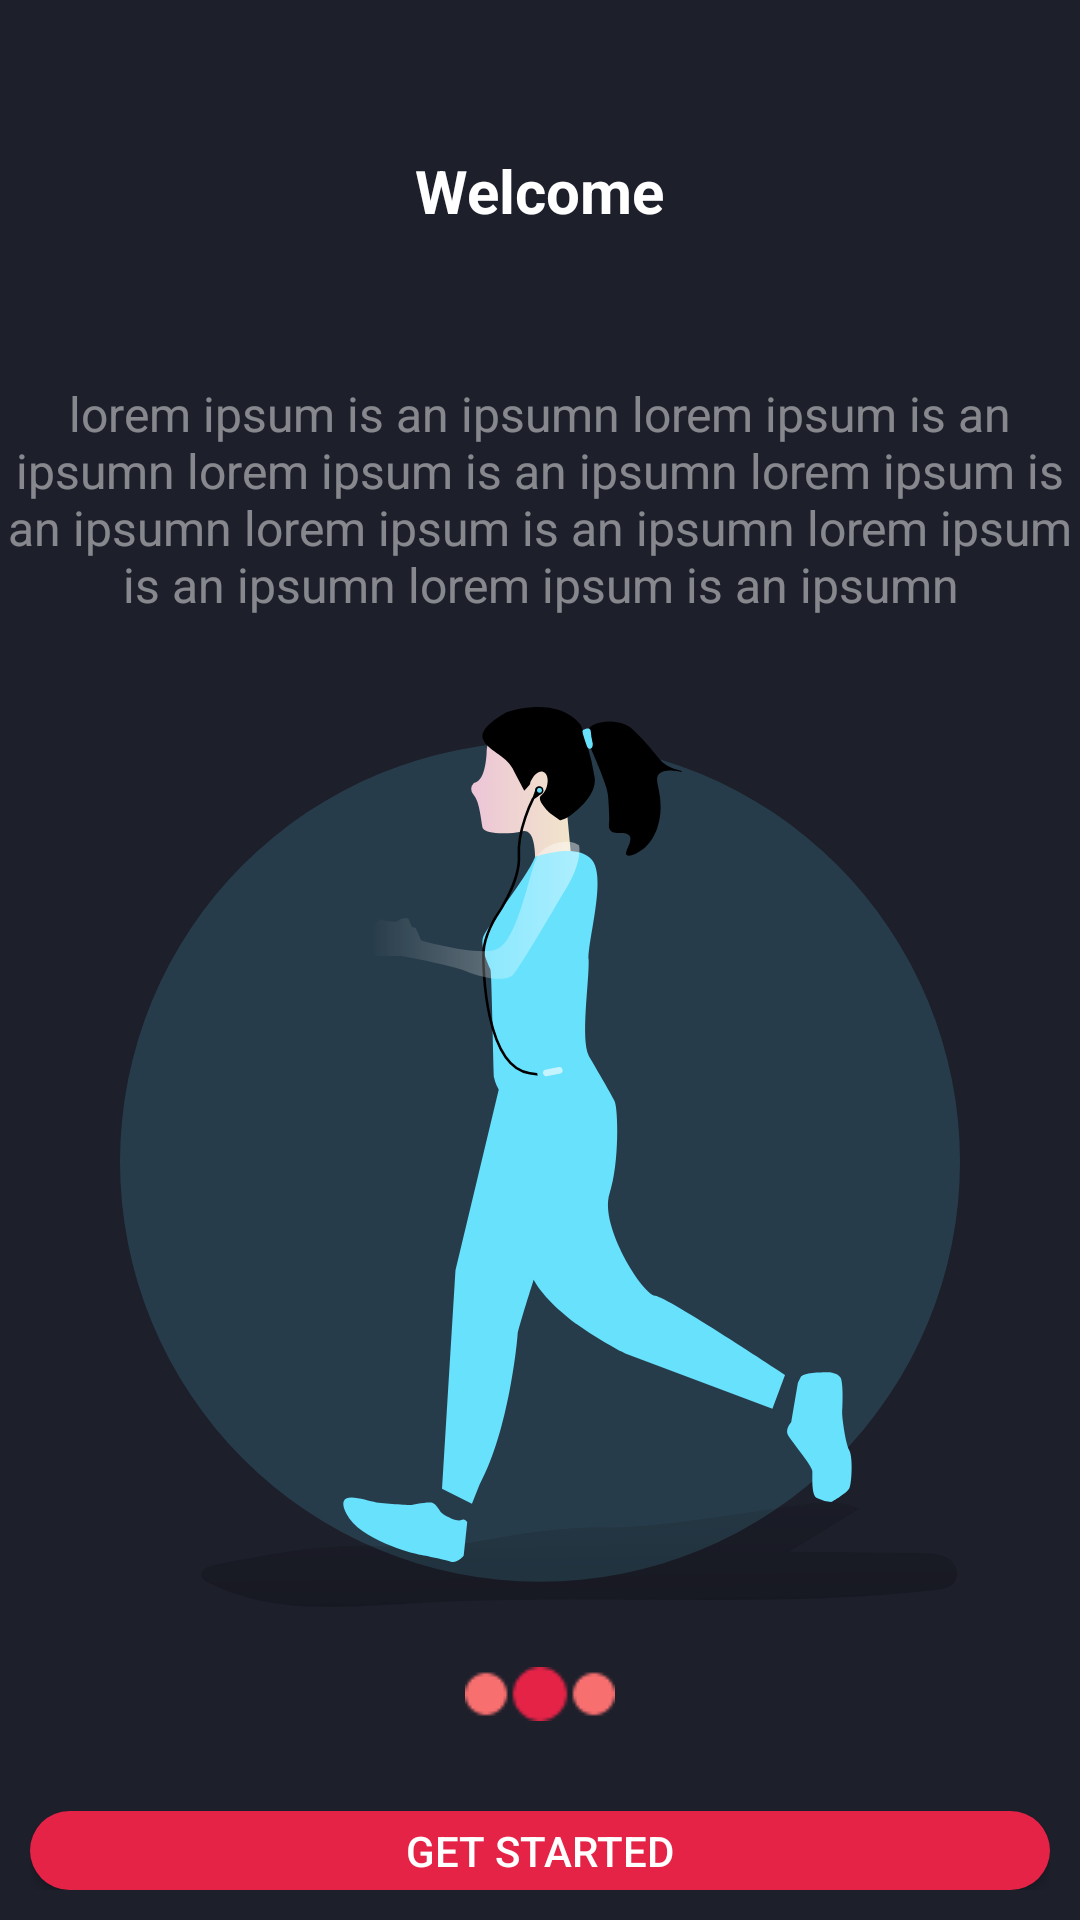

Named icons in this screenshot (1080×1920) and their bounding boxes, bbox=[x1, y1, x2, y2]:
dots: bbox=[465, 1667, 615, 1721]
